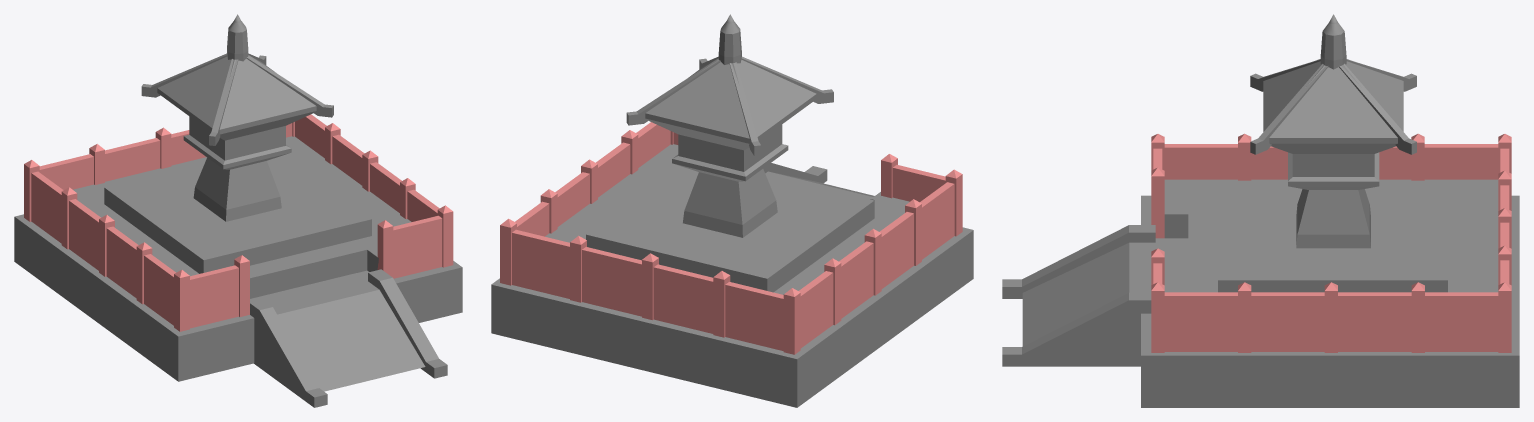
The model's file is COL_SM_ENV_KNVLLG03_AreaE_BuildingA.gltf.
3 views of the same model, side by side, from view 1: azimuth 30°, elevation 25°; view 2: azimuth 150°, elevation 25°; view 3: azimuth 270°, elevation 25° (orthographic). The views are drawn at different scales.
Visible parts, largest first — view 1: COL_SM_ENV_KNVLLG03_AreaE_BuildingA; view 2: COL_SM_ENV_KNVLLG03_AreaE_BuildingA; view 3: COL_SM_ENV_KNVLLG03_AreaE_BuildingA.
Part boxes in pixels (<box>): COL_SM_ENV_KNVLLG03_AreaE_BuildingA: <box>14,14,462,407</box>; COL_SM_ENV_KNVLLG03_AreaE_BuildingA: <box>491,14,973,407</box>; COL_SM_ENV_KNVLLG03_AreaE_BuildingA: <box>1002,14,1519,407</box>.
Size of the model in its own units: 8.52 by 7.82 by 11.63.
